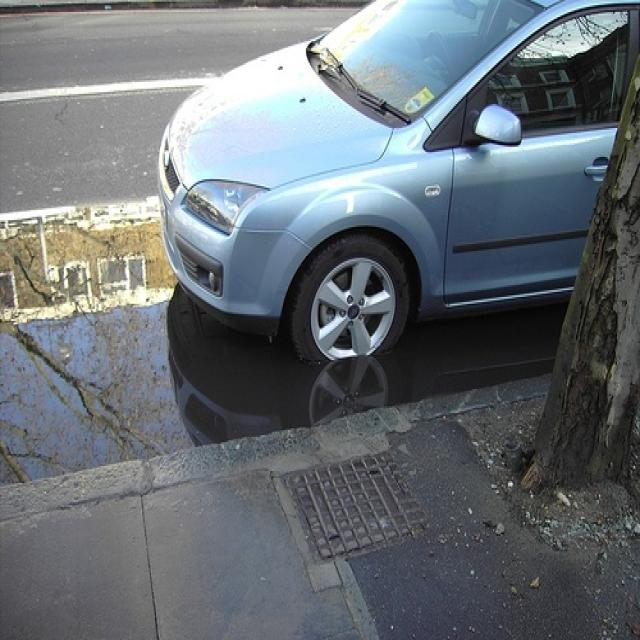car: (155, 1, 640, 368)
